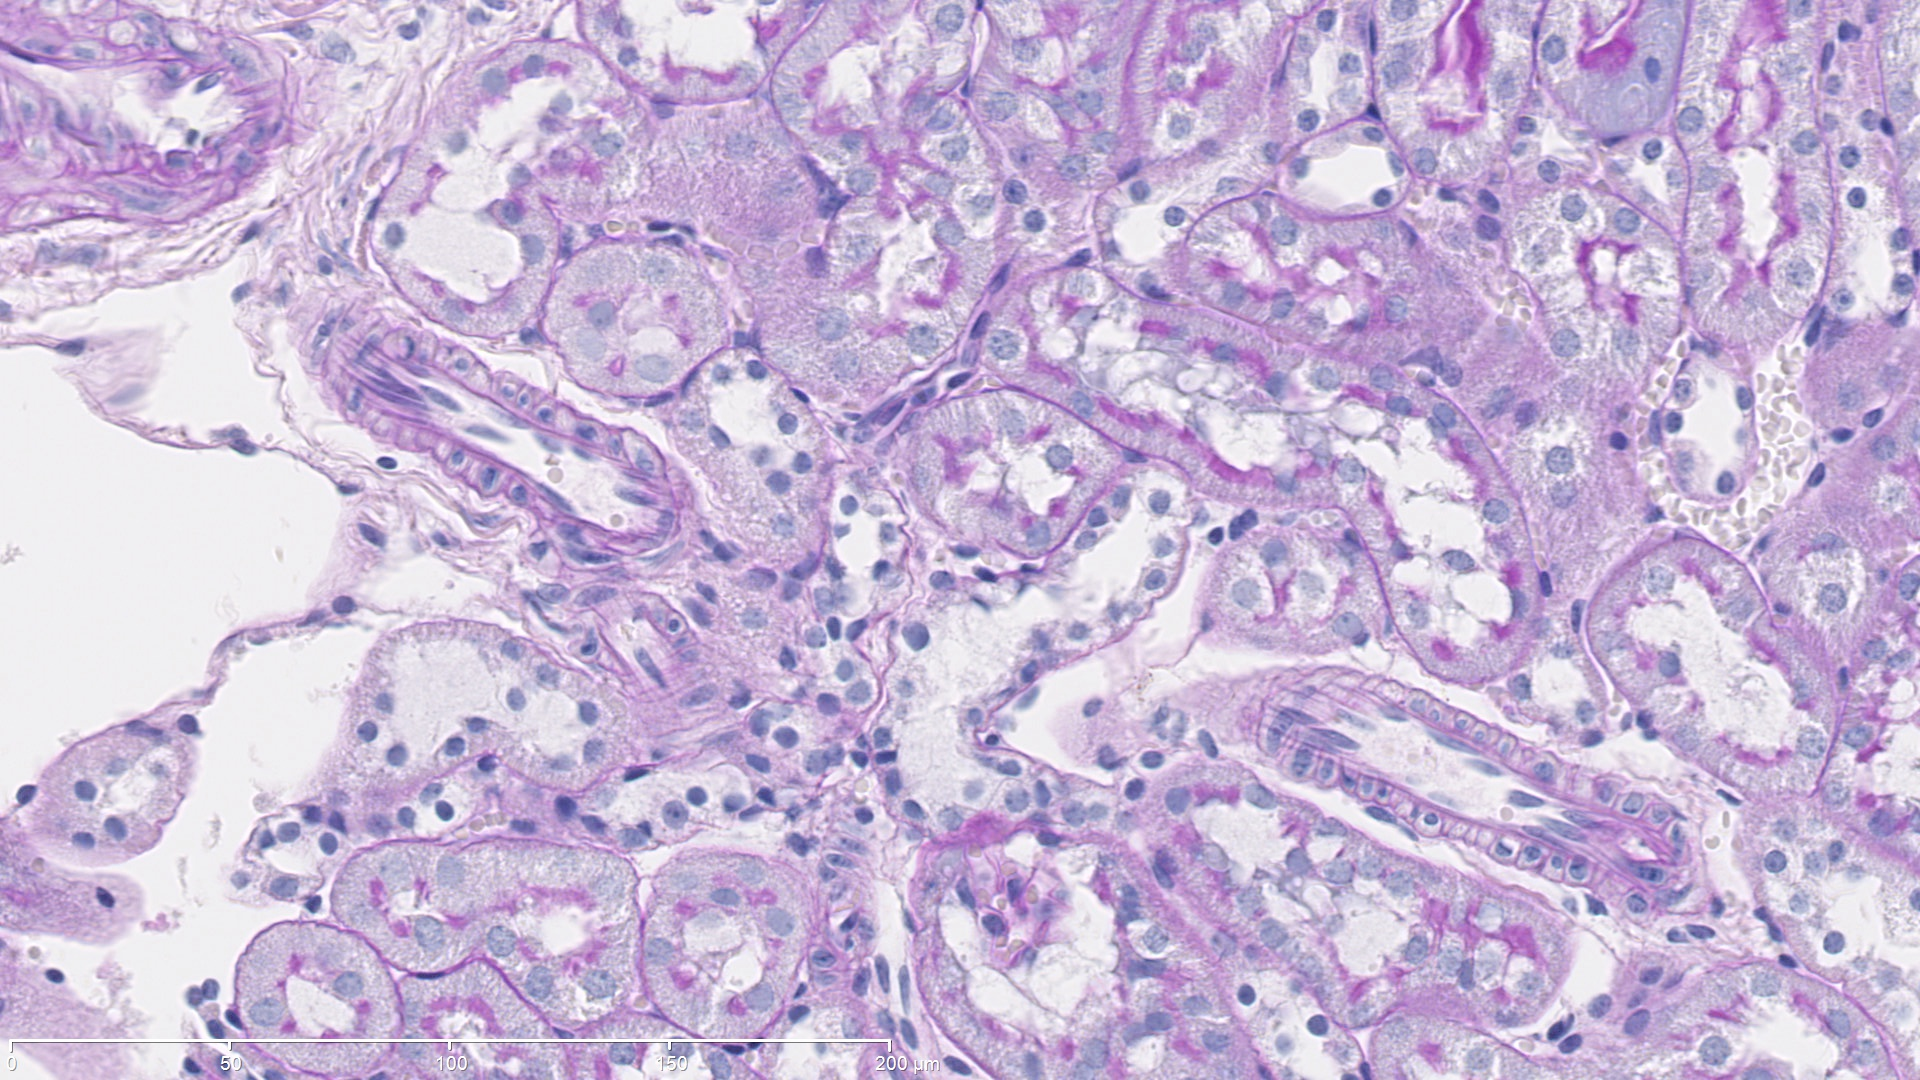Glomeruli: (1242, 646, 1710, 924), (305, 287, 698, 578)
